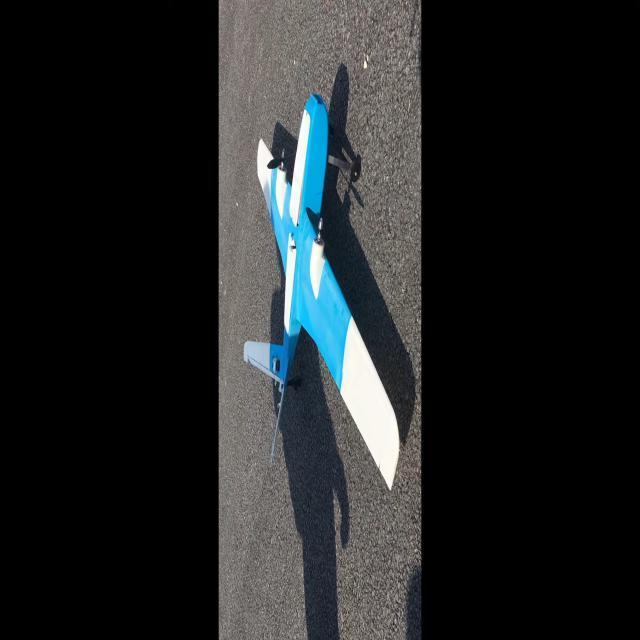UAV: (250, 76, 408, 494)
